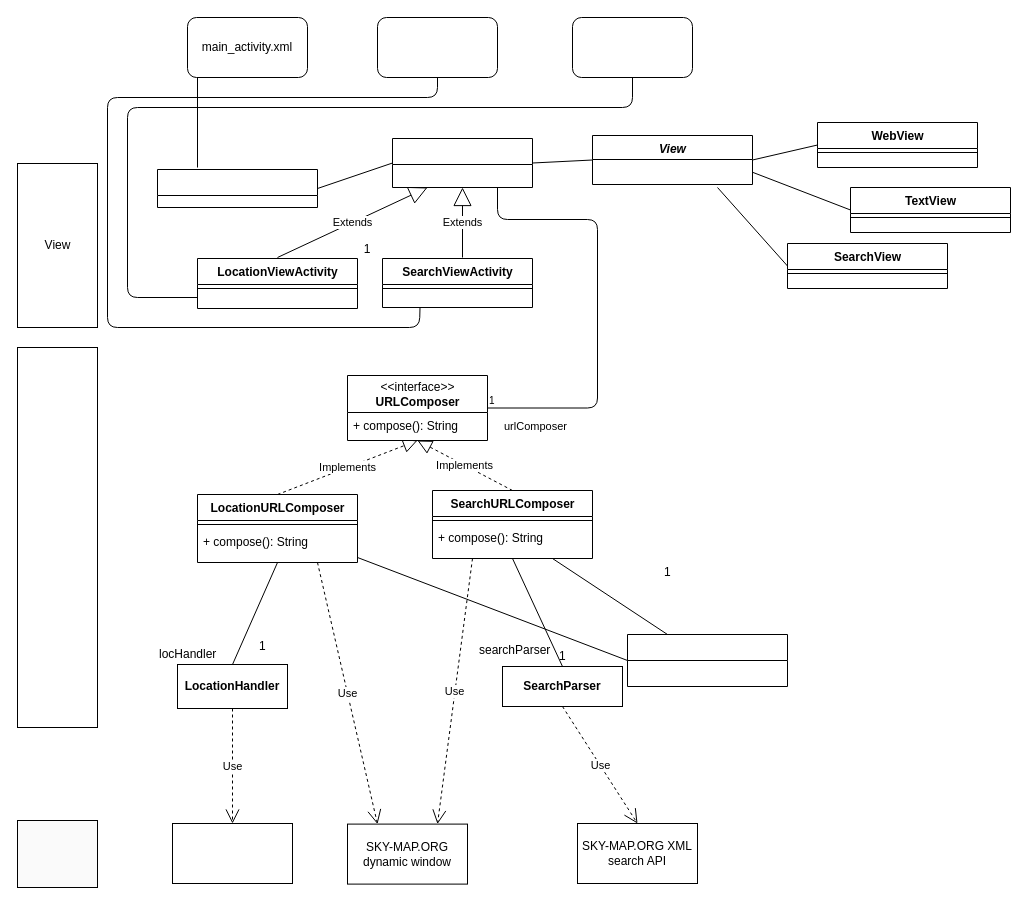
The diagram is 1028 pixels wide and 905 high, and some of its shapes have lost their labels. The centre of each missing label's shape, as x and y in pixels:
"Activity {{abstract}}" belongs at (x=462, y=163).
"Google Location Services API" belongs at (x=232, y=853).
"location_activity.xml" belongs at (x=632, y=47).
"MainActivity" belongs at (x=237, y=188).
"Model" belongs at (x=57, y=854).
"Presenter" belongs at (x=57, y=537).
"search_activity.xml" belongs at (x=437, y=47).
"SkyMapURL" belongs at (x=707, y=660).
